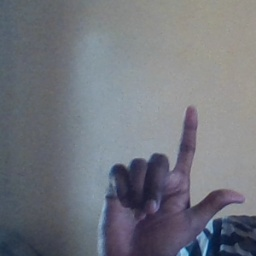L: (96, 103, 245, 256)
